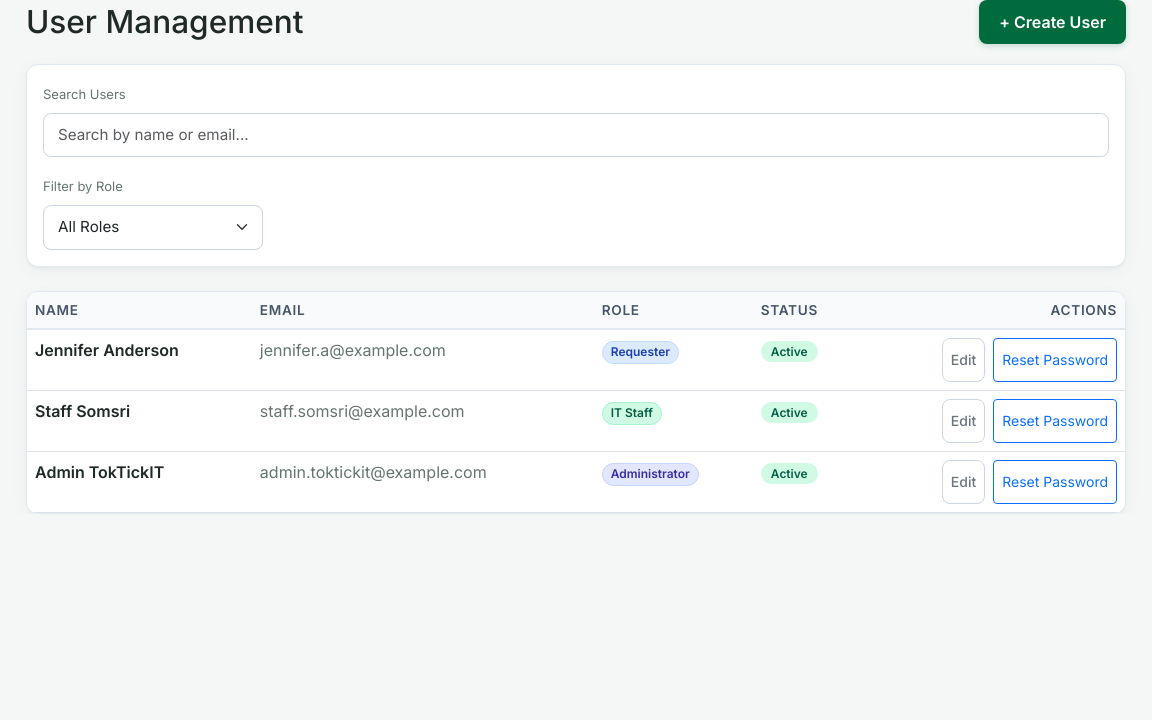
Test: Administrator User Management UI Component (UI-ADMIN-01, UI-ADMIN-02) › UI-ADMIN-02: Admin User Edit & Role/Status Toggle modal with safety check error alerts
Expected: the text "Admin TokTickIT" is shown, [27,452,252,512]
Note: Click Edit on Admin TokTickIT (row 3)
Click the button "Edit" in the row of "Admin TokTickIT" at point(964, 482), box [942,460,985,504]
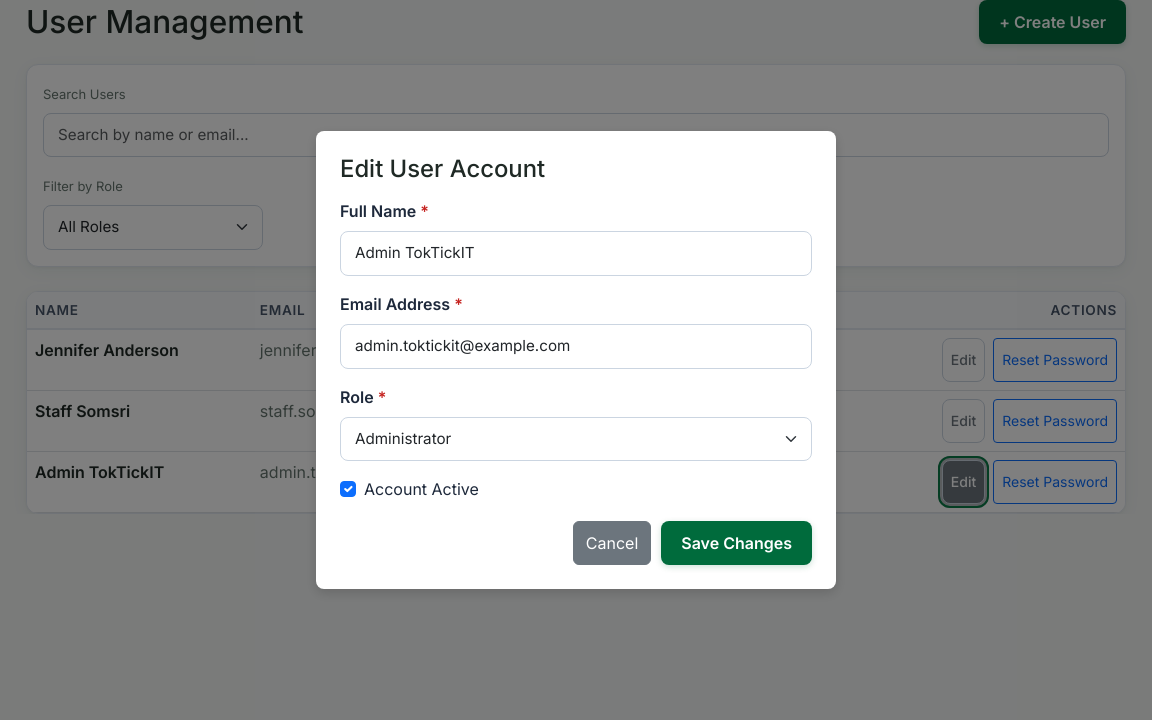
Expected: the heading "Edit User Account" is shown, [340,154,545,182]
Note: Attempt to uncheck Account Active
Click the checkbox labelled "Account Active" at point(348, 490), box [340,482,356,498]
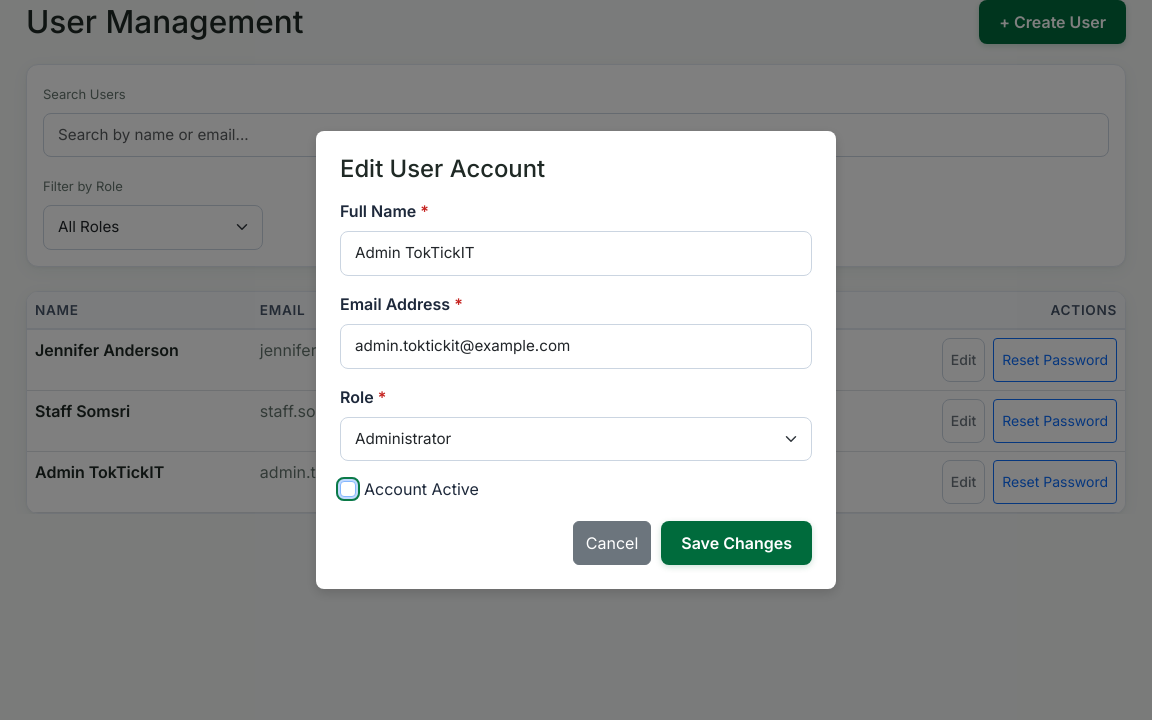
Click the button "Save Changes" at point(737, 544), box [661,522,812,566]
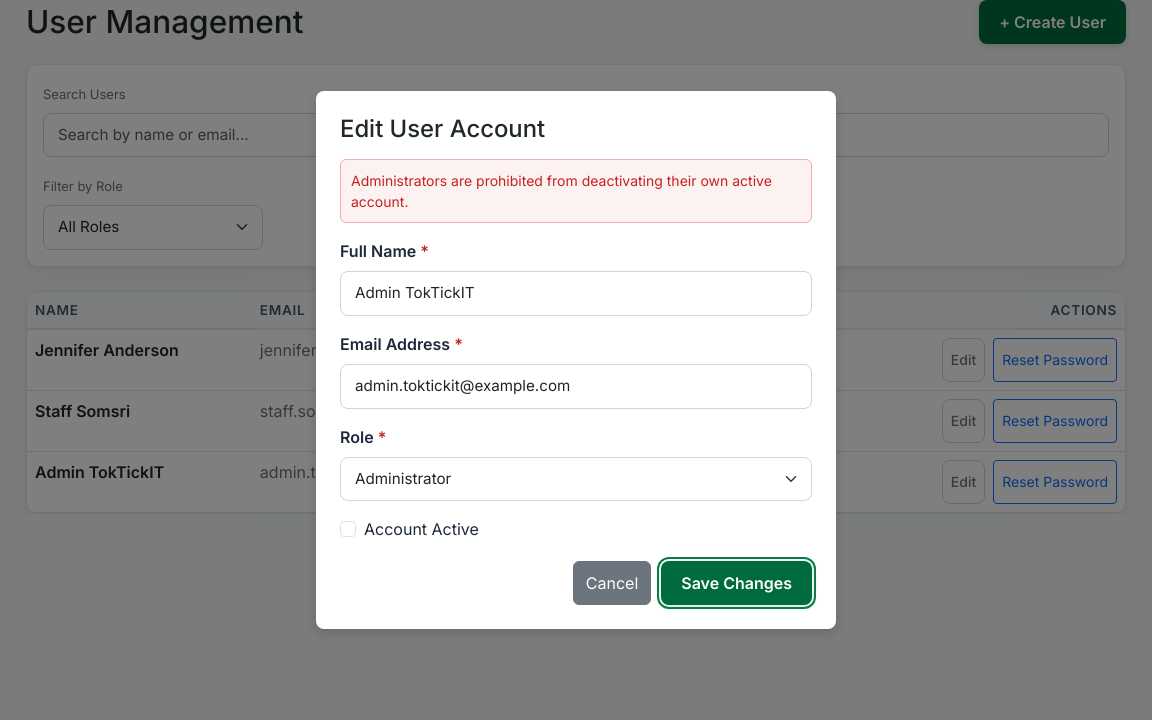
Expected: the text "prohibited from deactivating their own active account" is shown, [351,172,772,210]
